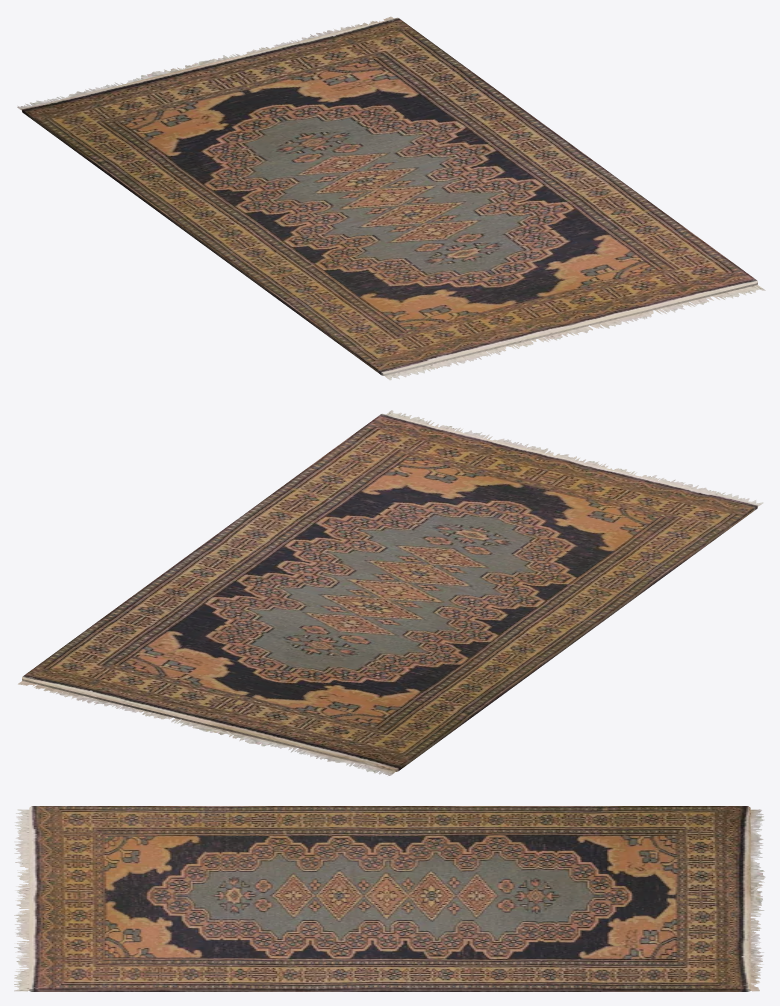
The model's file is tappeto.glb.
The picture shows the model from 3 angles, top to bottom: view 1: azimuth 30°, elevation 25°; view 2: azimuth 150°, elevation 25°; view 3: azimuth 270°, elevation 25°; orthographic projection.
Parts seen in each view (by area): view 1: rug01_MDL_nar; view 2: rug01_MDL_nar; view 3: rug01_MDL_nar.
Part boxes in pixels (bbox=[...]): rug01_MDL_nar: bbox=[17, 16, 765, 380]; rug01_MDL_nar: bbox=[18, 410, 763, 776]; rug01_MDL_nar: bbox=[14, 806, 765, 991].
Bounding box in the file's own units: 300 × 2.15 × 521.
Materials: 1 (1 with a texture image).
